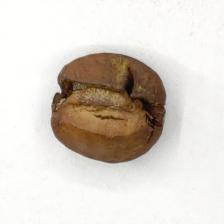NG: (58, 68, 157, 144)
